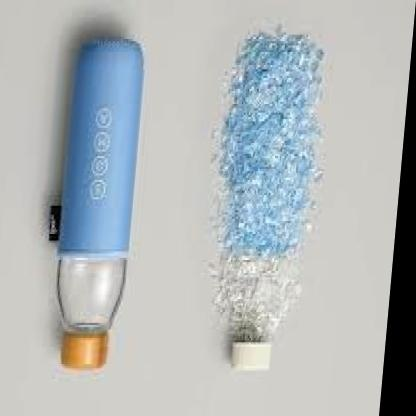trash: (211, 32, 323, 369), (57, 39, 142, 367)
